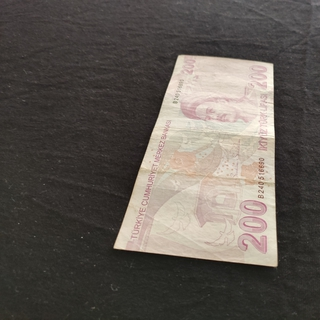200TLBack: (112, 54, 278, 267)
